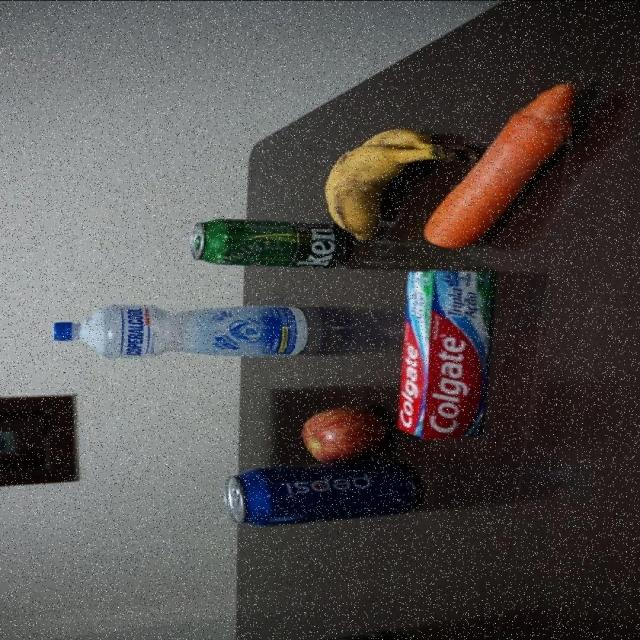AlcoholBottle: (49, 298, 312, 361)
Apple: (300, 404, 392, 464)
Banana: (322, 127, 478, 242)
BeerCan: (190, 218, 360, 270)
Carrot: (423, 80, 582, 250)
SodaCan: (224, 458, 420, 526)
Toothpaste: (395, 268, 500, 440)
